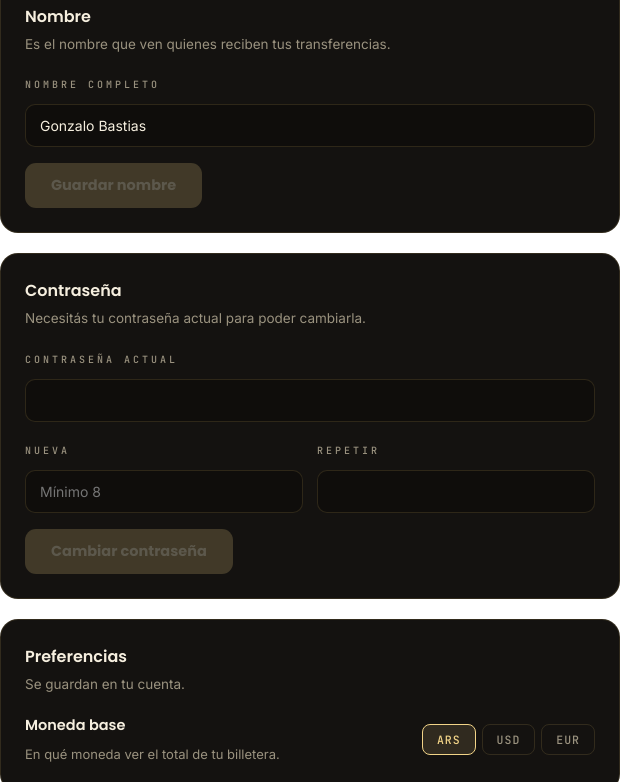
Configuracion › manda las dos contraseñas y limpia el formulario
(page scrolled)
Type "vieja123" into the password field labelled "Contraseña actual" at (310, 400), box [25,379,595,422]
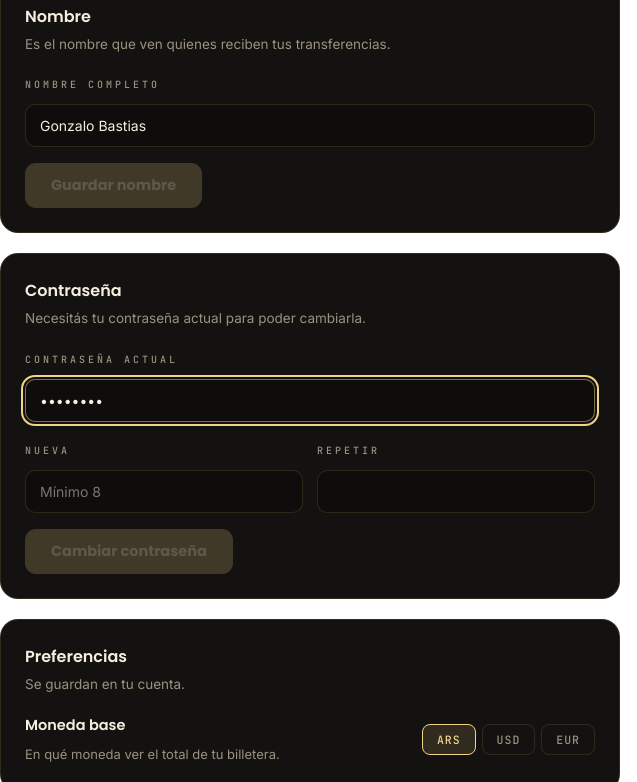
Type "secreta123" into the password field labelled "Nueva" at (164, 491), box [25,470,303,513]
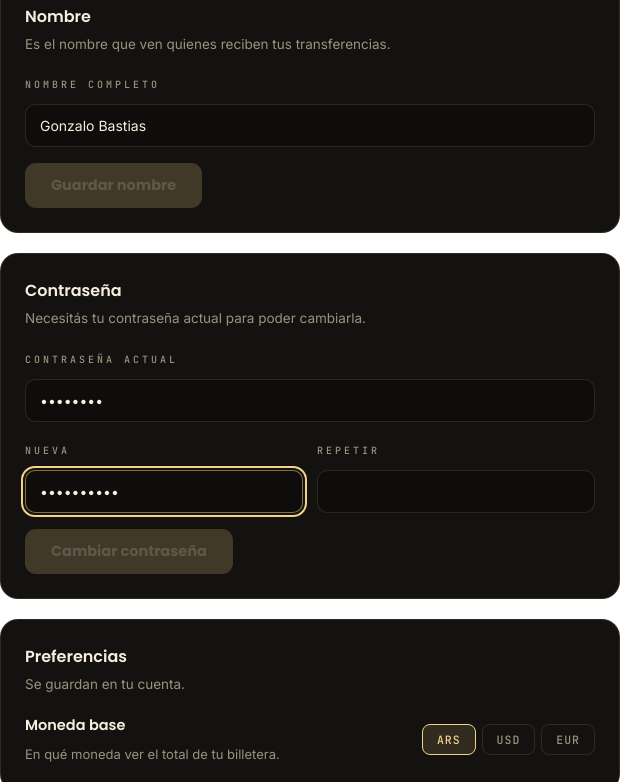
Type "secreta123" into the password field labelled "Repetir" at (456, 491), box [317,470,595,513]
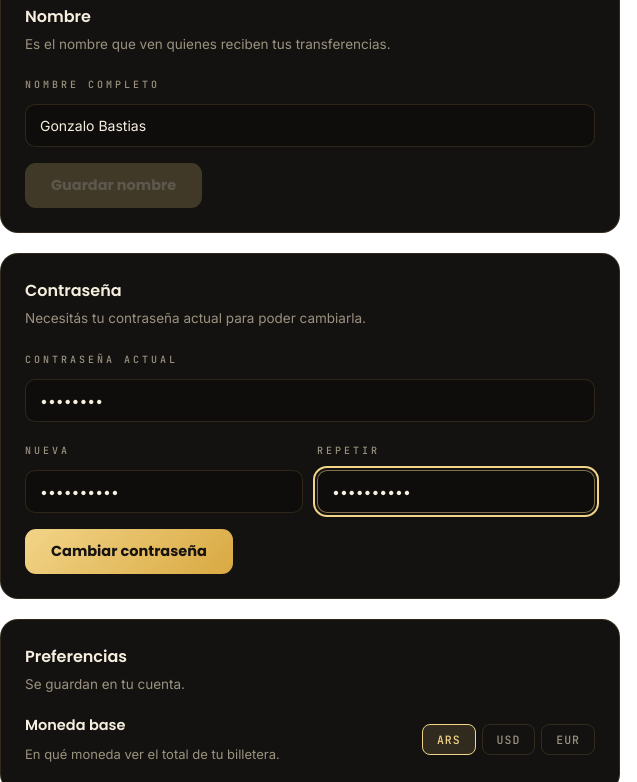
Click the button "Cambiar contraseña" at (129, 551), box [25,529,233,574]
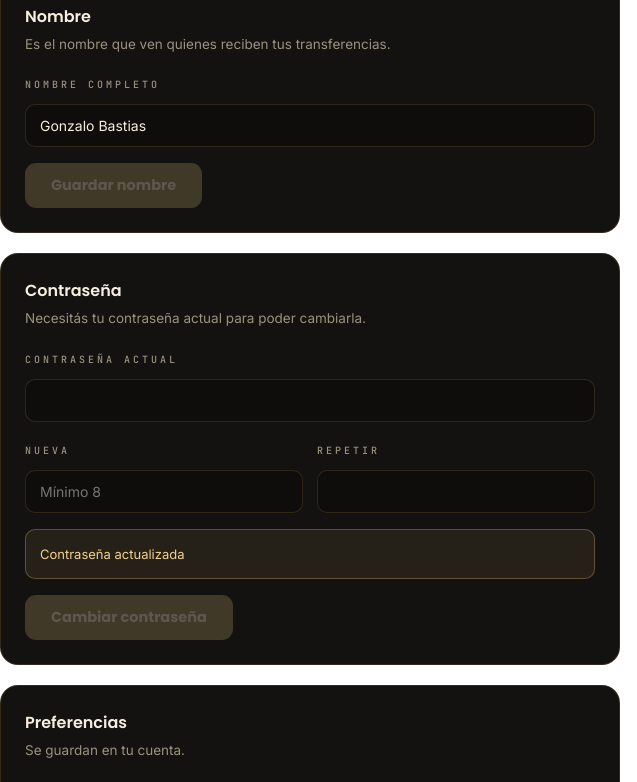
Result: the text "Contraseña actualizada" is shown at [25,529,595,579]
Result: the password field labelled "Contraseña actual" is empty at [25,379,595,422]
